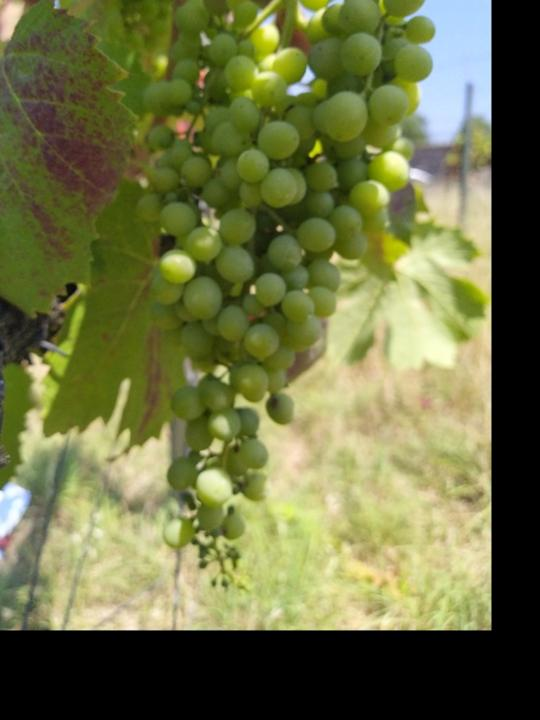grape: (127, 0, 451, 596)
